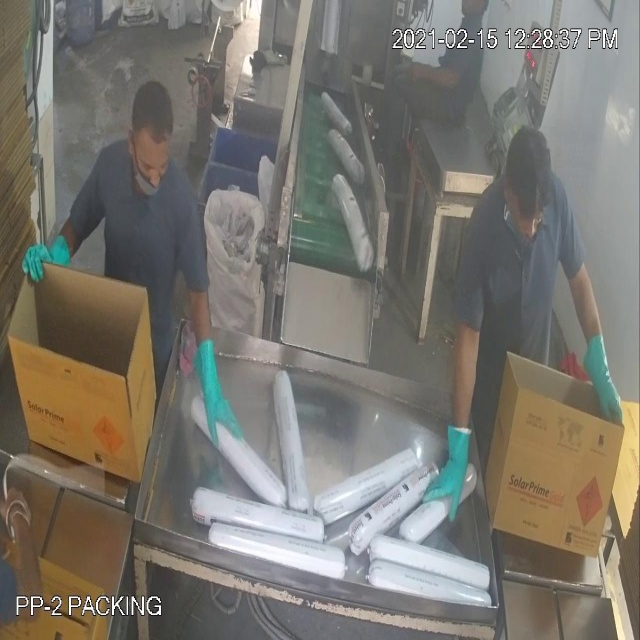Guantes: (420, 393, 485, 542), (190, 315, 244, 464), (571, 320, 632, 433), (10, 216, 73, 296)
Sin_guantes: (402, 43, 462, 93)
